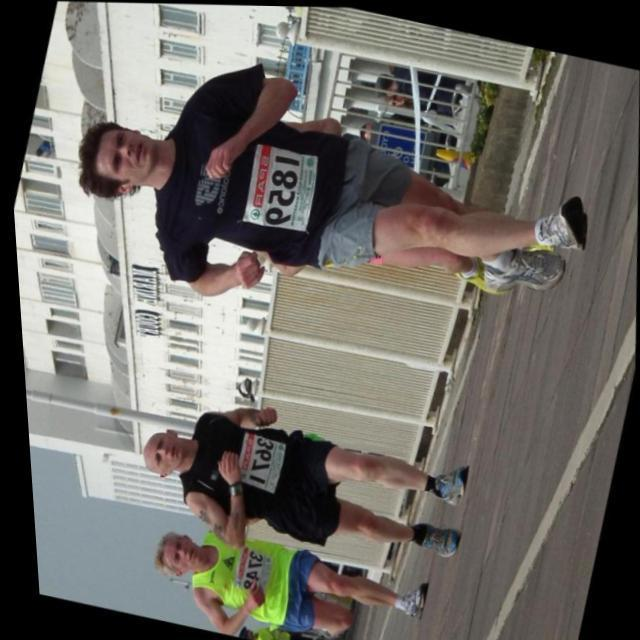dorsal: (224, 125, 337, 242), (224, 422, 298, 504), (220, 535, 287, 610)
